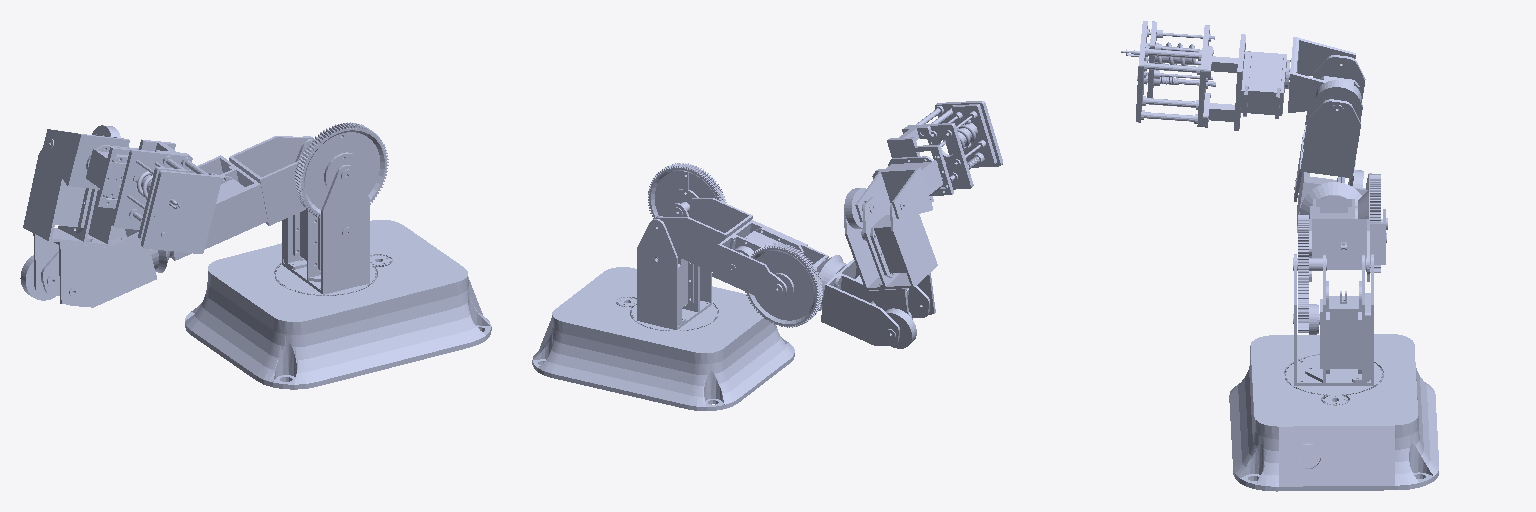
URDF robot description (craniobot_5kg_description):
<robot
  name="craniobot_5kg_description">
  <link
    name="base_link">
    <inertial>
      <origin
        xyz="0.018223244149274 0.000559104057890808 -0.0357794703686635"
        rpy="0 0 0" />
      <mass
        value="0.904145454818284" />
      <inertia
        ixx="0.00290956519018382"
        ixy="5.50351995083518E-05"
        ixz="1.09857315874843E-05"
        iyy="0.00472192787908941"
        iyz="1.20942036243524E-06"
        izz="0.00689174142713364" />
    </inertial>
    <visual>
      <origin
        xyz="0 0 0"
        rpy="0 0 0" />
      <geometry>
        <mesh
          filename="package://craniobot_5kg_description/meshes/base_link.STL" />
      </geometry>
      <material
        name="">
        <color
          rgba="0.792156862745098 0.819607843137255 0.933333333333333 1" />
      </material>
    </visual>
    <collision>
      <origin
        xyz="0 0 0"
        rpy="0 0 0" />
      <geometry>
        <mesh
          filename="package://craniobot_5kg_description/meshes/base_link.STL" />
      </geometry>
    </collision>
  </link>
  <link
    name="link_1">
    <inertial>
      <origin
        xyz="-2.83910970002351E-06 0.00032091032402029 0.0557779366136696"
        rpy="0 0 0" />
      <mass
        value="0.235161387716735" />
      <inertia
        ixx="0.000523122601475155"
        ixy="2.61931779425461E-09"
        ixz="-1.00461864057507E-08"
        iyy="0.000435931100372013"
        iyz="8.7133773586281E-05"
        izz="0.000183617379700543" />
    </inertial>
    <visual>
      <origin
        xyz="0 0 0"
        rpy="0 0 0" />
      <geometry>
        <mesh
          filename="package://craniobot_5kg_description/meshes/link_1.STL" />
      </geometry>
      <material
        name="">
        <color
          rgba="0.792156862745098 0.819607843137255 0.933333333333333 1" />
      </material>
    </visual>
    <collision>
      <origin
        xyz="0 0 0"
        rpy="0 0 0" />
      <geometry>
        <mesh
          filename="package://craniobot_5kg_description/meshes/link_1.STL" />
      </geometry>
    </collision>
  </link>
  <joint
    name="joint_1"
    type="revolute">
    <origin
      xyz="0 0 0"
      rpy="-2.1057E-24 -5.5712E-24 3.1415" />
    <parent
      link="base_link" />
    <child
      link="link_1" />
    <axis
      xyz="0 0 -1" />
    <limit
      lower="0"
      upper="3.84"
      effort="0"
      velocity="0" />
  </joint>
  <link
    name="link_2">
    <inertial>
      <origin
        xyz="0.00732285291403031 1.94922110563489E-06 0.137676695150426"
        rpy="0 0 0" />
      <mass
        value="0.288598981552685" />
      <inertia
        ixx="0.000660755148913065"
        ixy="1.50573917246595E-09"
        ixz="1.7795896939446E-05"
        iyy="0.000739222512505875"
        iyz="5.79690442011882E-09"
        izz="0.000201101662065437" />
    </inertial>
    <visual>
      <origin
        xyz="0 0 0"
        rpy="0 0 0" />
      <geometry>
        <mesh
          filename="package://craniobot_5kg_description/meshes/link_2.STL" />
      </geometry>
      <material
        name="">
        <color
          rgba="0.792156862745098 0.819607843137255 0.933333333333333 1" />
      </material>
    </visual>
    <collision>
      <origin
        xyz="0 0 0"
        rpy="0 0 0" />
      <geometry>
        <mesh
          filename="package://craniobot_5kg_description/meshes/link_2.STL" />
      </geometry>
    </collision>
  </link>
  <joint
    name="joint_2"
    type="revolute">
    <origin
      xyz="0 -0.00511 0.11532"
      rpy="-1.7629 5.4238E-19 -1.5708" />
    <parent
      link="link_1" />
    <child
      link="link_2" />
    <axis
      xyz="1 0 0" />
    <limit
      lower="0"
      upper="3.6"
      effort="0"
      velocity="0" />
  </joint>
  <link
    name="link_3">
    <inertial>
      <origin
        xyz="0.0536257933494206 0.000108764774472275 0.00134399000620963"
        rpy="0 0 0" />
      <mass
        value="0.184737941254484" />
      <inertia
        ixx="9.58491951403439E-05"
        ixy="4.34900946125455E-07"
        ixz="-1.33802198594686E-05"
        iyy="0.000288354152725379"
        iyz="5.74109711886539E-08"
        izz="0.000251361031091162" />
    </inertial>
    <visual>
      <origin
        xyz="0 0 0"
        rpy="0 0 0" />
      <geometry>
        <mesh
          filename="package://craniobot_5kg_description/meshes/link_3.STL" />
      </geometry>
      <material
        name="">
        <color
          rgba="0.792156862745098 0.819607843137255 0.933333333333333 1" />
      </material>
    </visual>
    <collision>
      <origin
        xyz="0 0 0"
        rpy="0 0 0" />
      <geometry>
        <mesh
          filename="package://craniobot_5kg_description/meshes/link_3.STL" />
      </geometry>
    </collision>
  </link>
  <joint
    name="joint_3"
    type="revolute">
    <origin
      xyz="-0.0050024 0 0.1824"
      rpy="0.13414 -1.5708 0" />
    <parent
      link="link_2" />
    <child
      link="link_3" />
    <axis
      xyz="1 0 0" />
    <limit
      lower="0"
      upper="5.62"
      effort="0"
      velocity="0" />
  </joint>
  <link
    name="link_4">
    <inertial>
      <origin
        xyz="0.000191591663254553 -0.0053410961636659 0.0822974126008937"
        rpy="0 0 0" />
      <mass
        value="0.150426362073932" />
      <inertia
        ixx="0.000213328450186477"
        ixy="1.22752843779343E-07"
        ixz="-1.33577658912057E-06"
        iyy="0.000181511648462945"
        iyz="1.18291868842664E-05"
        izz="8.18254243802943E-05" />
    </inertial>
    <visual>
      <origin
        xyz="0 0 0"
        rpy="0 0 0" />
      <geometry>
        <mesh
          filename="package://craniobot_5kg_description/meshes/link_4.STL" />
      </geometry>
      <material
        name="">
        <color
          rgba="0.792156862745098 0.819607843137255 0.933333333333333 1" />
      </material>
    </visual>
    <collision>
      <origin
        xyz="0 0 0"
        rpy="0 0 0" />
      <geometry>
        <mesh
          filename="package://craniobot_5kg_description/meshes/link_4.STL" />
      </geometry>
    </collision>
  </link>
  <joint
    name="joint_4"
    type="revolute">
    <origin
      xyz="0.11084 0.00024563 0.010498"
      rpy="-2.6857 -1.5708 -2.5277" />
    <parent
      link="link_3" />
    <child
      link="link_4" />
    <axis
      xyz="1 0 0" />
    <limit
      lower="0"
      upper="4.0"
      effort="0"
      velocity="0" />
  </joint>
  <link
    name="link_5">
    <inertial>
      <origin
        xyz="0.00061752074744631 2.77555756156289E-17 0.0341570403299147"
        rpy="0 0 0" />
      <mass
        value="0.0260876236257683" />
      <inertia
        ixx="1.0877376342488E-05"
        ixy="-1.30019557403535E-19"
        ixz="-5.5025792514478E-07"
        iyy="1.64546571424962E-05"
        iyz="-2.94343949170869E-19"
        izz="1.45049120738049E-05" />
    </inertial>
    <visual>
      <origin
        xyz="0 0 0"
        rpy="0 0 0" />
      <geometry>
        <mesh
          filename="package://craniobot_5kg_description/meshes/link_5.STL" />
      </geometry>
      <material
        name="">
        <color
          rgba="0.792156862745098 0.819607843137255 0.933333333333333 1" />
      </material>
    </visual>
    <collision>
      <origin
        xyz="0 0 0"
        rpy="0 0 0" />
      <geometry>
        <mesh
          filename="package://craniobot_5kg_description/meshes/link_5.STL" />
      </geometry>
    </collision>
  </link>
  <joint
    name="joint_5"
    type="revolute">
    <origin
      xyz="0 -0.014751 0.13046"
      rpy="-1.65 1.1102E-16 -1.5708" />
    <parent
      link="link_4" />
    <child
      link="link_5" />
    <axis
      xyz="1 0 0" />
    <limit
      lower="0"
      upper="3.6"
      effort="0"
      velocity="0" />
  </joint>
  <link
    name="link_6">
    <inertial>
      <origin
        xyz="0.024067989164535 -0.0150585377699296 2.08166817117217E-15"
        rpy="0 0 0" />
      <mass
        value="0.0712112754274667" />
      <inertia
        ixx="2.49076797081276E-05"
        ixy="-6.77330500133713E-07"
        ixz="1.3976043629696E-20"
        iyy="1.64820060396479E-05"
        iyz="1.73641754187132E-20"
        izz="2.96478677236868E-05" />
    </inertial>
    <visual>
      <origin
        xyz="0 0 0"
        rpy="0 0 0" />
      <geometry>
        <mesh
          filename="package://craniobot_5kg_description/meshes/link_6.STL" />
      </geometry>
      <material
        name="">
        <color
          rgba="0.792156862745098 0.819607843137255 0.933333333333333 1" />
      </material>
    </visual>
    <collision>
      <origin
        xyz="0 0 0"
        rpy="0 0 0" />
      <geometry>
        <mesh
          filename="package://craniobot_5kg_description/meshes/link_6.STL" />
      </geometry>
    </collision>
  </link>
  <joint
    name="joint_6"
    type="revolute">
    <origin
      xyz="0 0 0.047362"
      rpy="-1.5636 -1.5708 0" />
    <parent
      link="link_5" />
    <child
      link="link_6" />
    <axis
      xyz="1 0 0" />
    <limit
      lower="-2"
      upper="4"
      effort="0"
      velocity="0" />
  </joint>
  <link
    name="link_7">
    <inertial>
      <origin
        xyz="0.00195419430926891 0.00606586571308579 -0.0606349111096726"
        rpy="0 0 0" />
      <mass
        value="0.227809475189937" />
      <inertia
        ixx="0.000295705276844348"
        ixy="-3.73467756945066E-06"
        ixz="-4.85165241237869E-06"
        iyy="0.000340435546364559"
        iyz="2.12927702477142E-05"
        izz="0.000198545651067944" />
    </inertial>
    <visual>
      <origin
        xyz="0 0 0"
        rpy="0 0 0" />
      <geometry>
        <mesh
          filename="package://craniobot_5kg_description/meshes/link_7.STL" />
      </geometry>
      <material
        name="">
        <color
          rgba="0.792156862745098 0.819607843137255 0.933333333333333 1" />
      </material>
    </visual>
    <collision>
      <origin
        xyz="0 0 0"
        rpy="0 0 0" />
      <geometry>
        <mesh
          filename="package://craniobot_5kg_description/meshes/link_7.STL" />
      </geometry>
    </collision>
  </link>
  <joint
    name="joint_7"
    type="fixed">
    <origin
      xyz="0.0497 -0.0045605 -0.0011984"
      rpy="3.1416 1.5708 0" />
    <parent
      link="link_6" />
    <child
      link="link_7" />
    <axis
      xyz="0 0 0" />
  </joint>
</robot>

--- Render facts (derived) ---
Views: 3 orthographic renders of the robot side by side, from view 1: azimuth 30°, elevation 25°; view 2: azimuth 150°, elevation 25°; view 3: azimuth 270°, elevation 25°.
Model craniobot_5kg_description with 8 links and 7 joints (6 revolute, 1 fixed), rooted at base_link, posed all joints at 0.
Visible links, largest first — view 1: base_link, link_1, link_7, link_4, link_2, link_3, link_5, link_6; view 2: base_link, link_2, link_1, link_4, link_7, link_3, link_5, link_6; view 3: base_link, link_1, link_7, link_4, link_2, link_6, link_5, link_3.
Link boxes in pixels (x1,y1,x2,y2): base_link: (185, 220, 491, 389); link_1: (282, 122, 388, 294); link_7: (96, 139, 221, 253); link_4: (23, 125, 120, 305); link_2: (169, 136, 313, 260); link_3: (20, 227, 169, 307); link_5: (42, 129, 129, 189); link_6: (86, 145, 138, 198); base_link: (532, 267, 794, 410); link_2: (655, 198, 828, 327); link_1: (637, 163, 726, 329); link_4: (844, 188, 937, 315); link_7: (887, 101, 1002, 202); link_3: (816, 255, 929, 348); link_5: (855, 167, 932, 221); link_6: (872, 156, 942, 194); base_link: (1229, 334, 1438, 491); link_1: (1293, 215, 1373, 385); link_7: (1121, 21, 1245, 130); link_4: (1294, 55, 1365, 201); link_2: (1309, 174, 1387, 281); link_6: (1240, 51, 1290, 118); link_5: (1288, 37, 1355, 112); link_3: (1294, 170, 1371, 232).
Size in the robot's own frame: 0.4477 by 0.3031 by 0.3004 metres.
8 mesh visuals loaded from 8 distinct referenced files (8 binary STL).